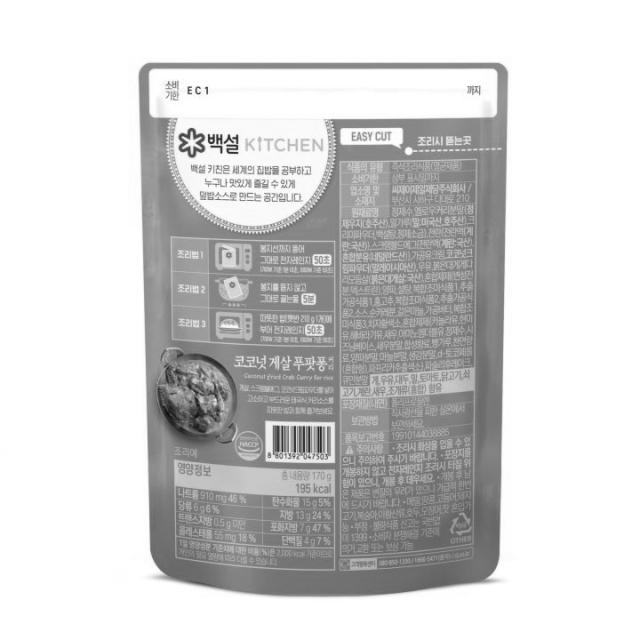Nutrition Label: (169, 457, 338, 581)
